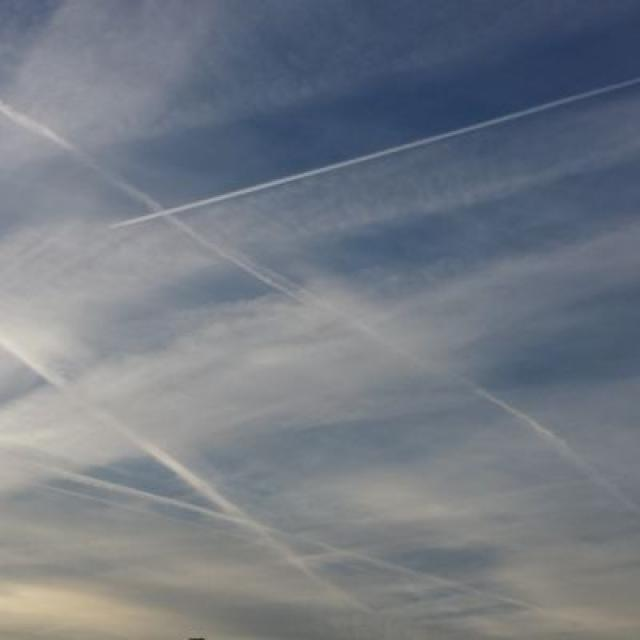Ct: (1, 45, 640, 583)
